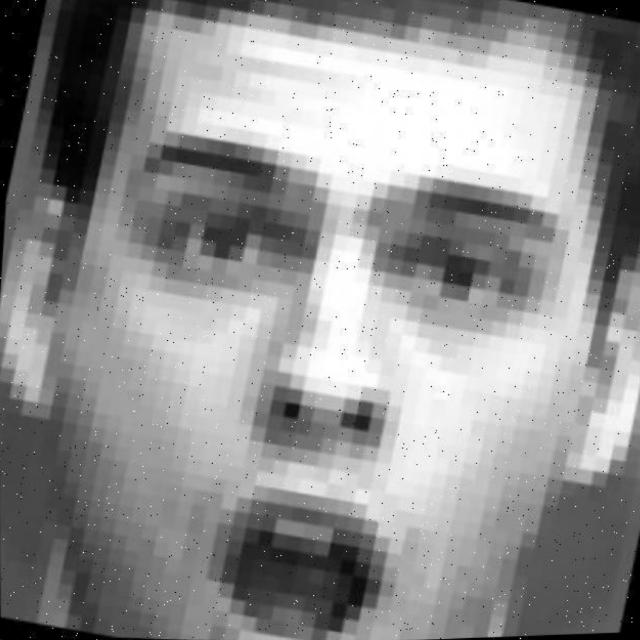Surprised: (41, 70, 614, 640)
